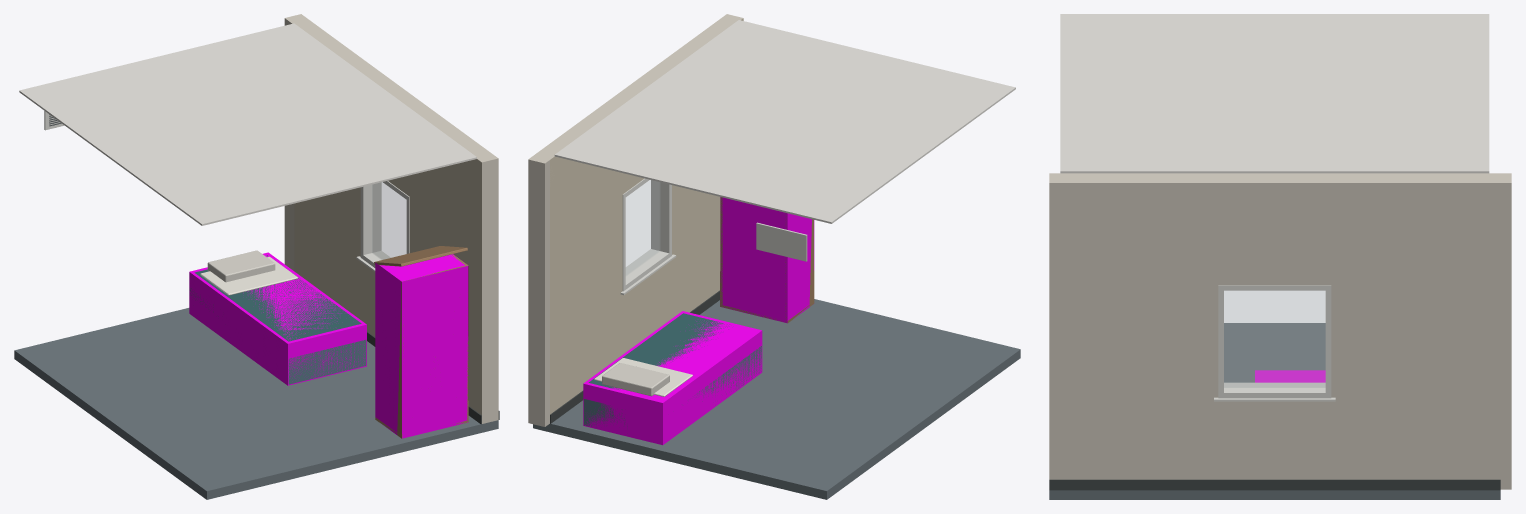
Rendered from ENV_PatientRoom_02.glb.
3 views of the same model, side by side, from view 1: azimuth 30°, elevation 25°; view 2: azimuth 150°, elevation 25°; view 3: azimuth 270°, elevation 25° (orthographic). The views are drawn at different scales.
Parts seen in each view (by area): view 1: ENV_PatientRoom_02_Architecture, ENV_PatientRoom_02_Ceiling, PROP_Wardrobe_AntiLigature_COL-colonly.001, PROP_Bed_AntiLigature_COL-colonly.001, PROP_Bed_AntiLigature_Mesh.001, PROP_Wardrobe_AntiLigature_Mesh.001, ENV_PatientRoom_02_Posts; view 2: ENV_PatientRoom_02_Architecture, ENV_PatientRoom_02_Ceiling, PROP_Bed_AntiLigature_COL-colonly.001, PROP_Wardrobe_AntiLigature_COL-colonly.001, PROP_Bed_AntiLigature_Mesh.001, ENV_PatientRoom_02_Posts, PROP_Vent_Grille_Wall_Mesh.003, PROP_Wardrobe_AntiLigature_Mesh.001; view 3: ENV_PatientRoom_02_Architecture, ENV_PatientRoom_02_Ceiling, ENV_PatientRoom_02_Posts, PROP_Bed_AntiLigature_COL-colonly.001.
Part boxes in pixels (x1=…): ENV_PatientRoom_02_Architecture: x1=14, y1=17, x2=499, y2=499; ENV_PatientRoom_02_Ceiling: x1=19, y1=23, x2=476, y2=225; PROP_Wardrobe_AntiLigature_COL-colonly.001: x1=375, y1=254, x2=468, y2=438; PROP_Bed_AntiLigature_COL-colonly.001: x1=189, y1=252, x2=366, y2=385; PROP_Bed_AntiLigature_Mesh.001: x1=189, y1=250, x2=366, y2=384; PROP_Wardrobe_AntiLigature_Mesh.001: x1=374, y1=246, x2=468, y2=438; ENV_PatientRoom_02_Posts: x1=284, y1=14, x2=309, y2=270; ENV_PatientRoom_02_Architecture: x1=533, y1=14, x2=1020, y2=499; ENV_PatientRoom_02_Ceiling: x1=554, y1=20, x2=1015, y2=223; PROP_Bed_AntiLigature_COL-colonly.001: x1=583, y1=311, x2=762, y2=445; PROP_Wardrobe_AntiLigature_COL-colonly.001: x1=720, y1=197, x2=814, y2=322; PROP_Bed_AntiLigature_Mesh.001: x1=584, y1=313, x2=761, y2=427; ENV_PatientRoom_02_Posts: x1=528, y1=153, x2=554, y2=426; PROP_Vent_Grille_Wall_Mesh.003: x1=756, y1=222, x2=807, y2=261; PROP_Wardrobe_AntiLigature_Mesh.001: x1=720, y1=197, x2=814, y2=323; ENV_PatientRoom_02_Architecture: x1=1049, y1=173, x2=1500, y2=499; ENV_PatientRoom_02_Ceiling: x1=1060, y1=14, x2=1489, y2=173; ENV_PatientRoom_02_Posts: x1=1489, y1=173, x2=1511, y2=489; PROP_Bed_AntiLigature_COL-colonly.001: x1=1255, y1=370, x2=1325, y2=382.
Size of what is drawn, in the model's own units: 3.54 by 3.12 by 4.1.
